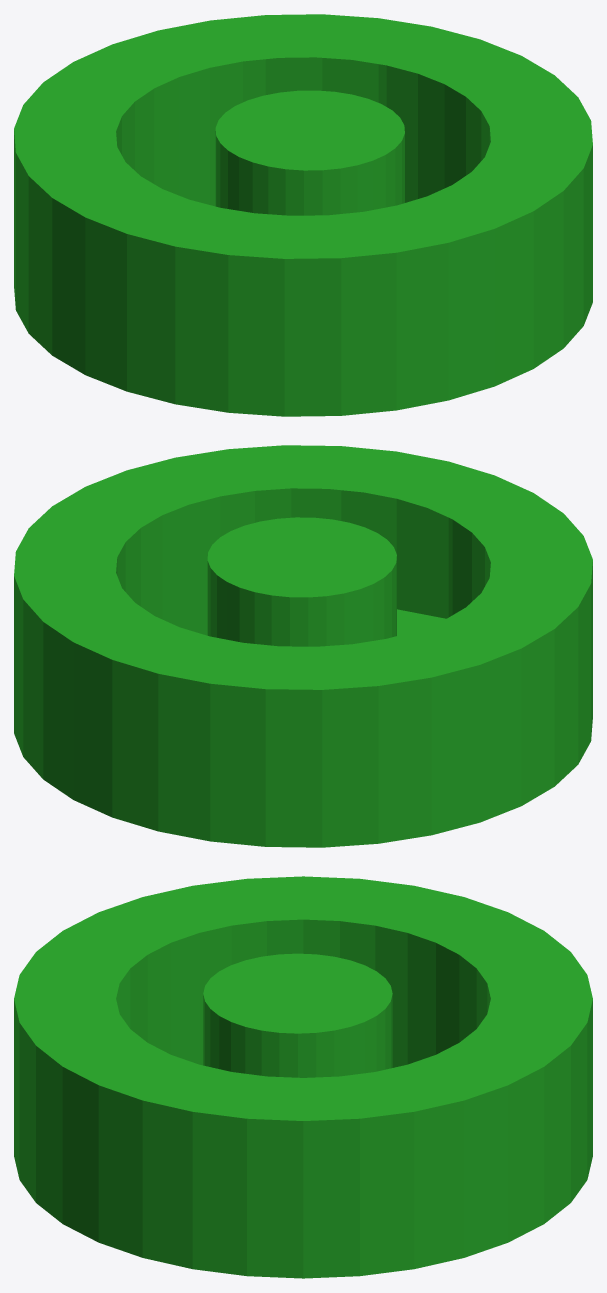
Rendered from heloma_helosis.gltf.
3 renders of one model, top to bottom at view 1: azimuth 30°, elevation 25°; view 2: azimuth 150°, elevation 25°; view 3: azimuth 270°, elevation 25°, orthographic.
Parts seen in each view (by area): view 1: Cilindro, Cilindro.001; view 2: Cilindro, Cilindro.001; view 3: Cilindro, Cilindro.001.
Boxes of the visible parts, bbox=[...] form: Cilindro: bbox=[14, 14, 592, 416]; Cilindro.001: bbox=[215, 90, 404, 215]; Cilindro: bbox=[14, 445, 592, 847]; Cilindro.001: bbox=[207, 517, 396, 646]; Cilindro: bbox=[14, 876, 592, 1278]; Cilindro.001: bbox=[203, 953, 392, 1077].
Size of the model in its own units: 1.53 by 0.5 by 1.53.
